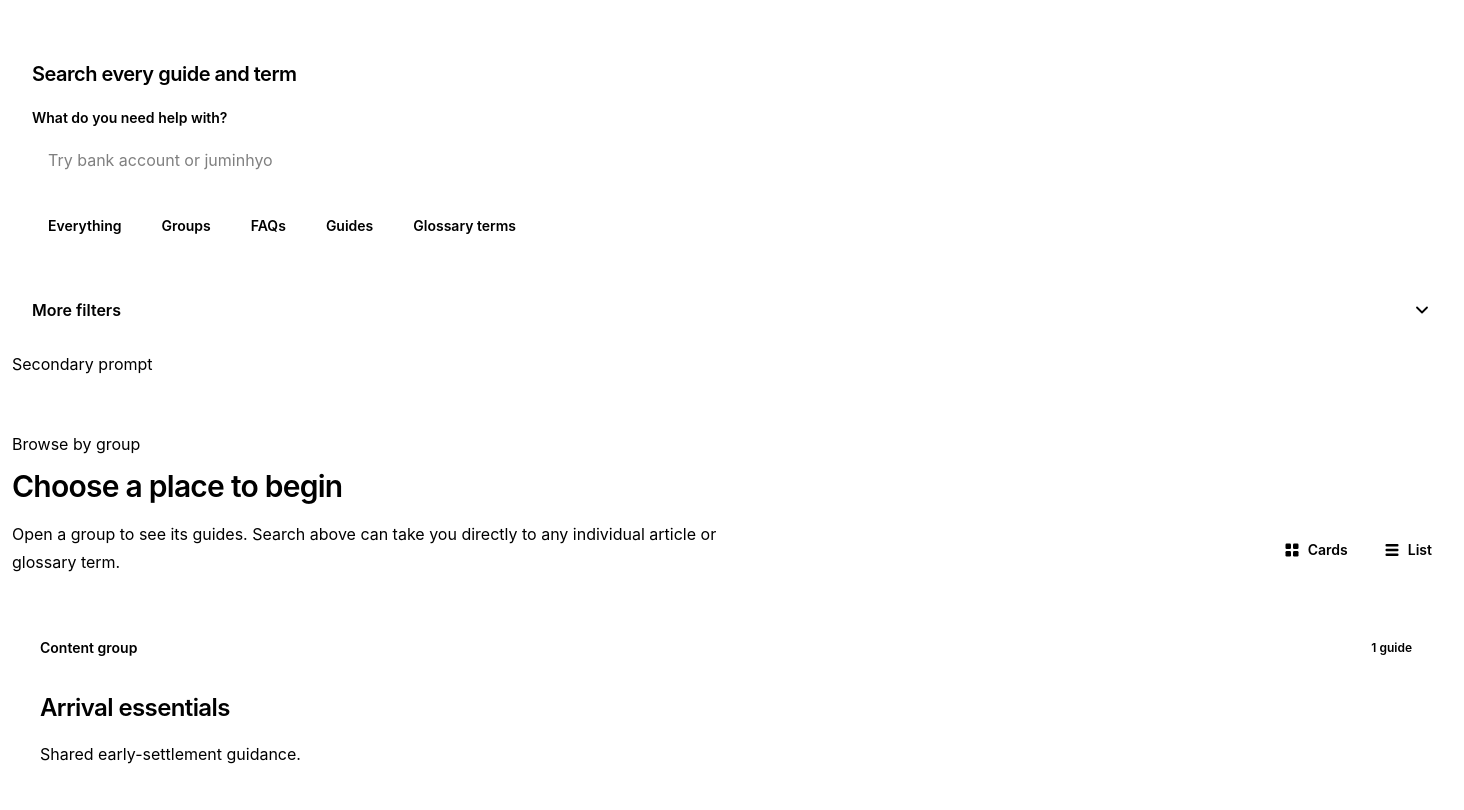
Test: ExploreDiscovery › shows the secondary prompts only while browsing, so results follow the search directly
Expected: the text "Secondary prompt" is shown, [12,354,152,374]
Type "bank account" into the search field. click: [732, 160]
box: [32,136,1432,184]
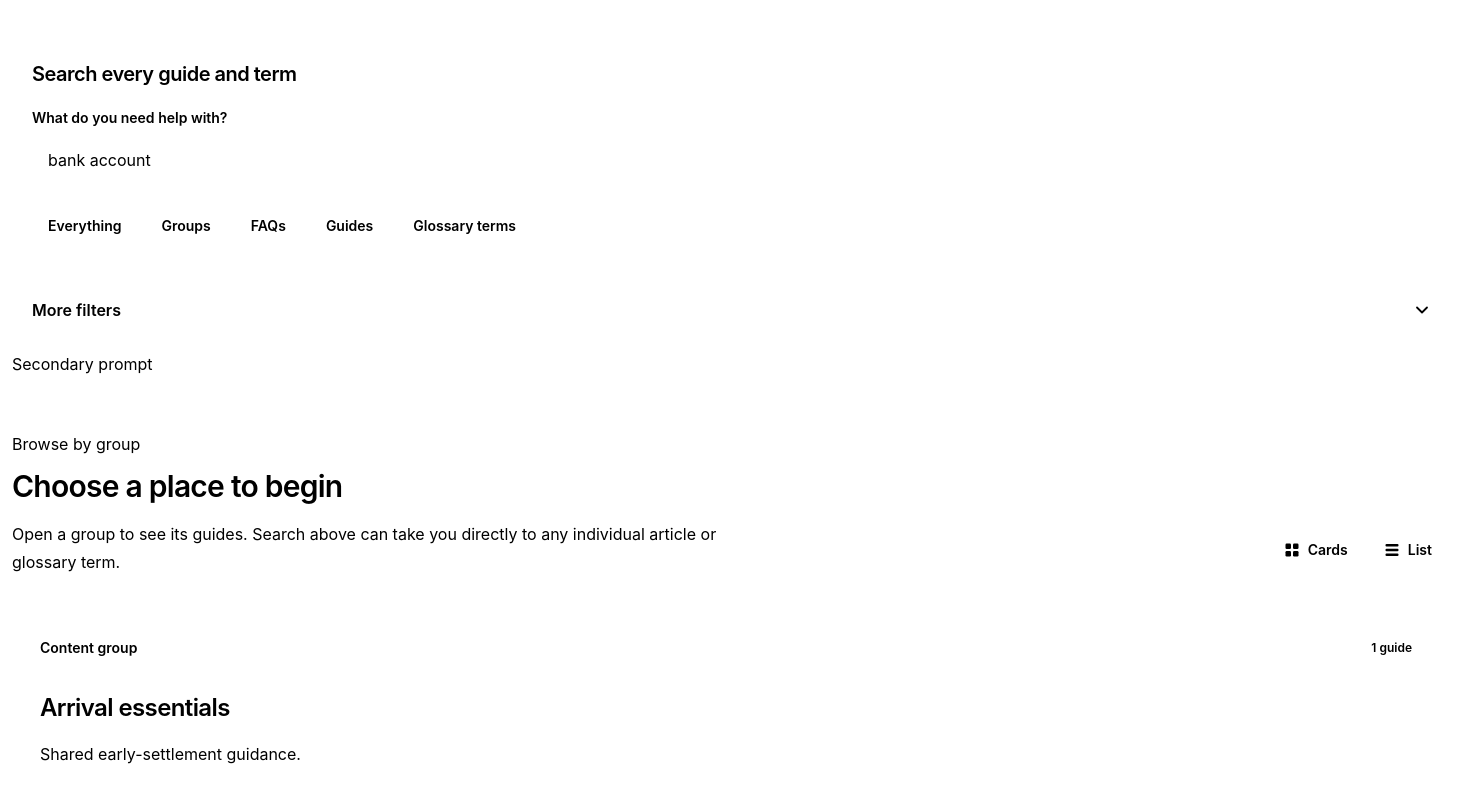
Leave the search field, box [32,136,1432,184]
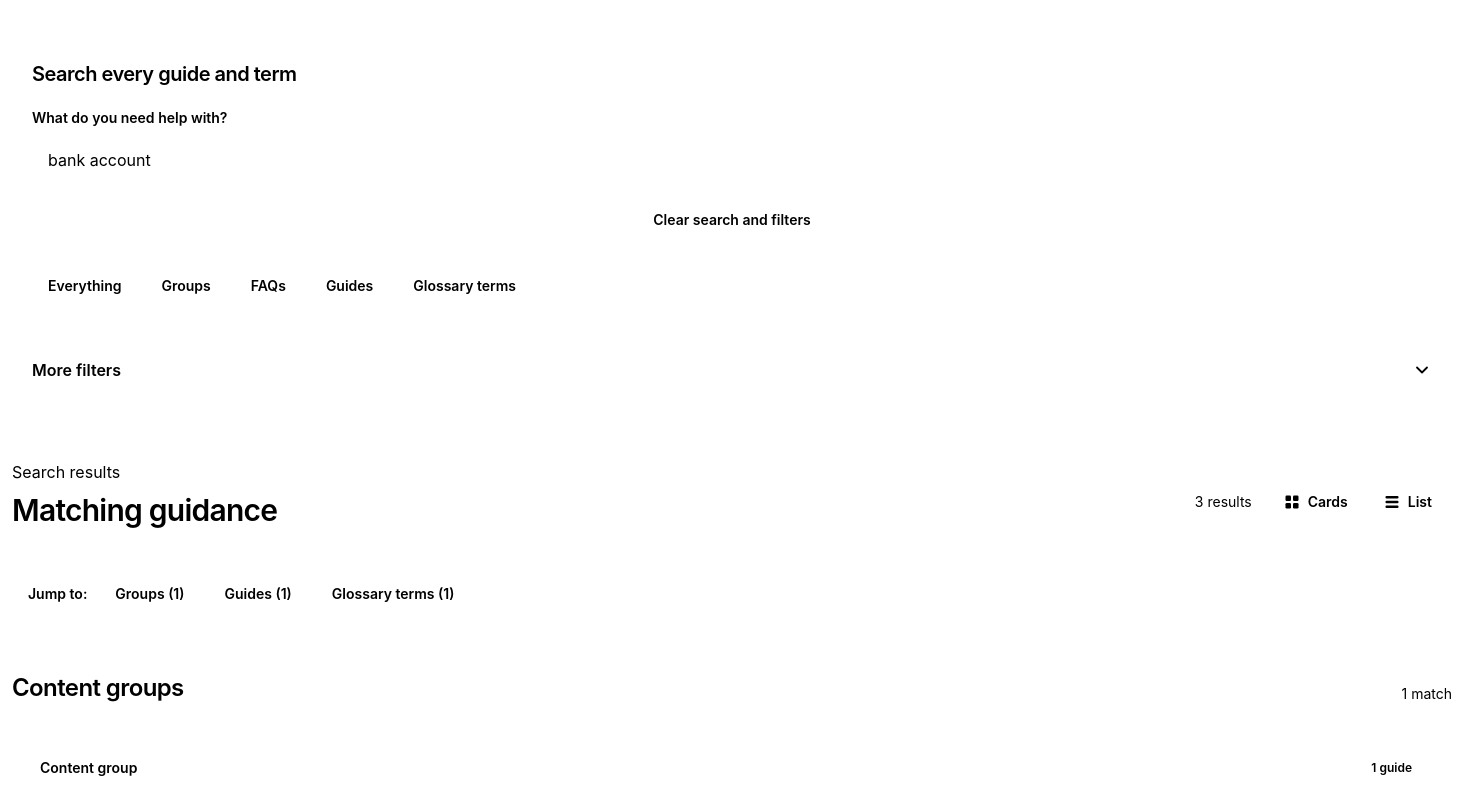
Now the text "Secondary prompt" is gone
